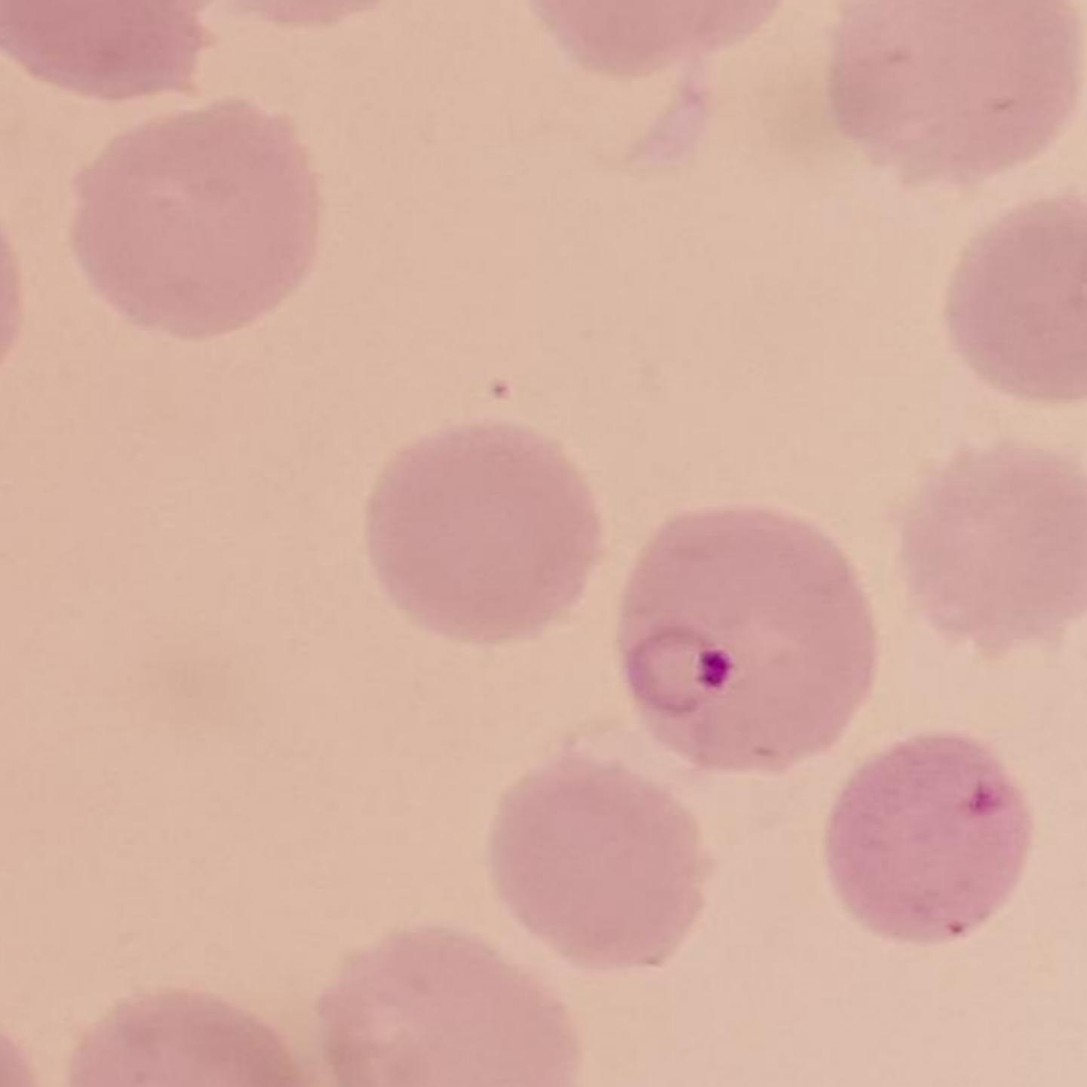Infected: (619, 516, 878, 772)
Uninfected: (70, 101, 325, 336), (365, 431, 598, 642), (820, 730, 1041, 948), (493, 758, 714, 968), (895, 441, 1087, 659)
